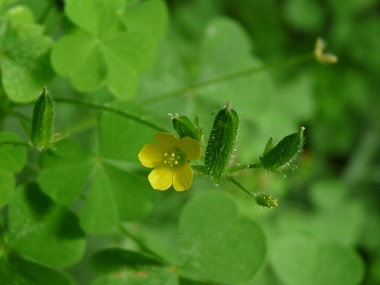oxalis: (21, 11, 297, 285)
